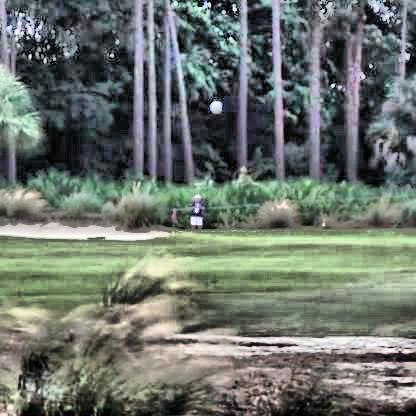golfball: (206, 99, 220, 112)
